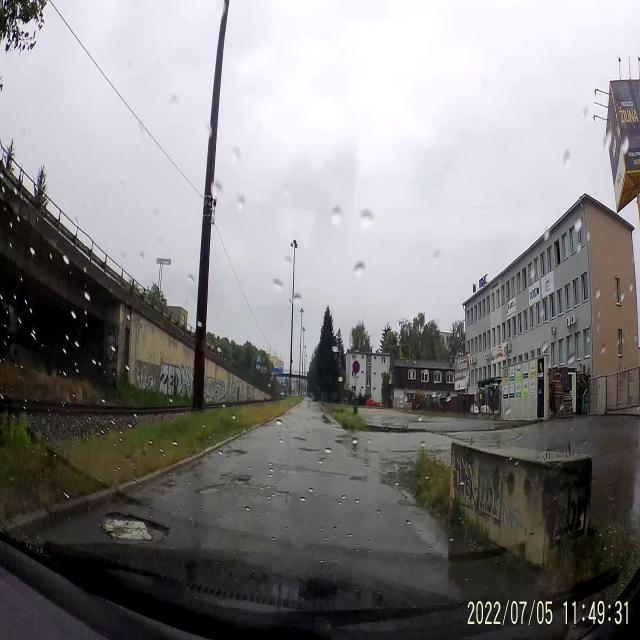Pothole: (101, 508, 168, 553), (220, 433, 252, 469), (198, 478, 229, 504), (228, 462, 252, 491)
